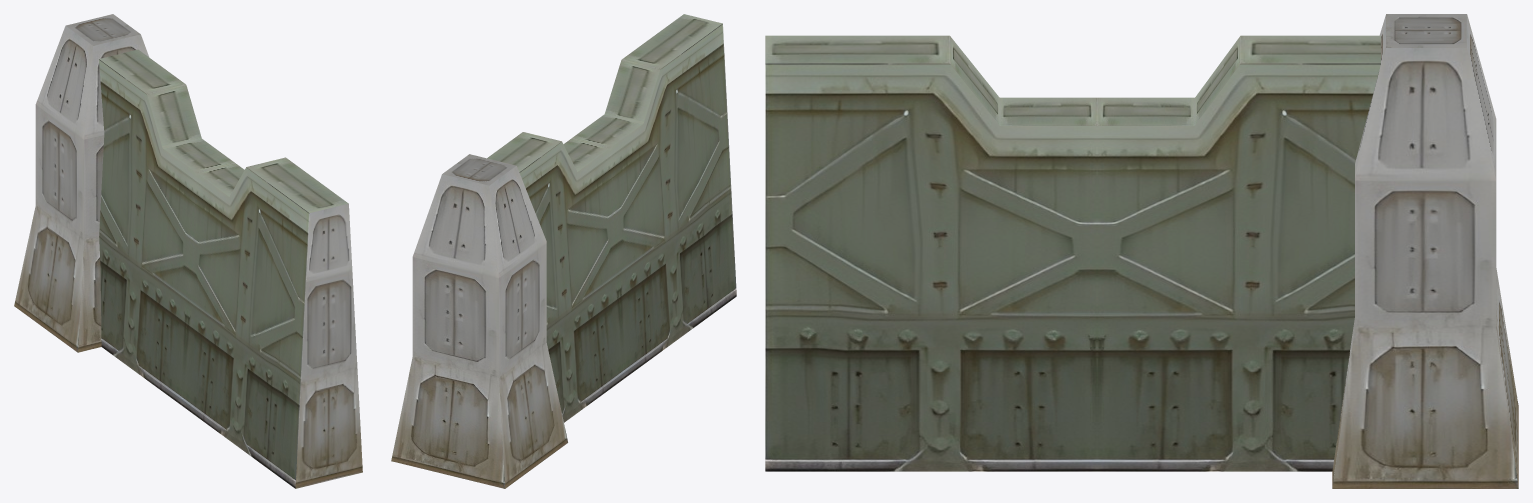
File: l_heavywall_hdtex.glb
3 views of the same model, side by side, from view 1: azimuth 30°, elevation 25°; view 2: azimuth 150°, elevation 25°; view 3: azimuth 270°, elevation 25° (orthographic). The views are drawn at different scales.
Visible parts, largest first — view 1: L_HeavyWall; view 2: L_HeavyWall; view 3: L_HeavyWall.
Part boxes in pixels (left/top/right/bottom): L_HeavyWall: left=14, top=14, right=362, bottom=488; L_HeavyWall: left=391, top=14, right=736, bottom=488; L_HeavyWall: left=765, top=14, right=1518, bottom=488.
Size of the model in its own units: 7.52 by 17.81 by 29.17.
1 material, 1 textured.
